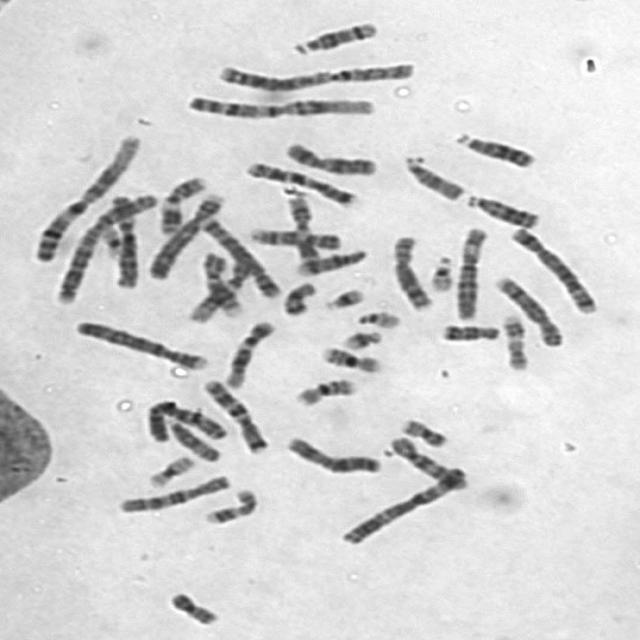A1: (24, 128, 144, 264), (176, 86, 381, 122)
A2: (45, 185, 161, 306), (206, 51, 420, 93)
A3: (332, 460, 471, 547), (136, 397, 234, 449)
B4: (66, 312, 212, 372), (138, 186, 228, 280)
B5: (502, 220, 601, 315), (192, 211, 284, 300)
C10: (110, 467, 234, 514), (380, 429, 471, 491)
C11: (152, 168, 211, 236), (278, 189, 322, 263)
C12: (181, 252, 253, 324), (217, 314, 277, 389)
C6: (446, 220, 490, 322), (107, 196, 150, 300)
C7: (237, 154, 359, 208), (193, 373, 270, 454)
C8: (486, 268, 568, 348), (383, 228, 437, 312)
C9: (189, 247, 249, 321), (241, 221, 344, 251)
D13: (447, 125, 538, 169), (459, 187, 543, 230)
D14: (284, 13, 381, 56), (288, 241, 371, 277)
D15: (396, 148, 468, 202), (160, 412, 223, 463)
E16: (286, 371, 361, 407), (313, 340, 384, 374)
E17: (197, 482, 260, 525), (494, 307, 532, 372)
E18: (275, 275, 319, 317), (433, 317, 503, 343)
F19: (138, 448, 197, 489), (93, 220, 127, 258)
F20: (160, 585, 222, 626), (392, 412, 450, 449)
G21: (316, 281, 368, 311), (334, 323, 386, 351)
G22: (421, 248, 457, 293), (349, 304, 403, 329)
X: (277, 429, 386, 475), (277, 135, 381, 177)
